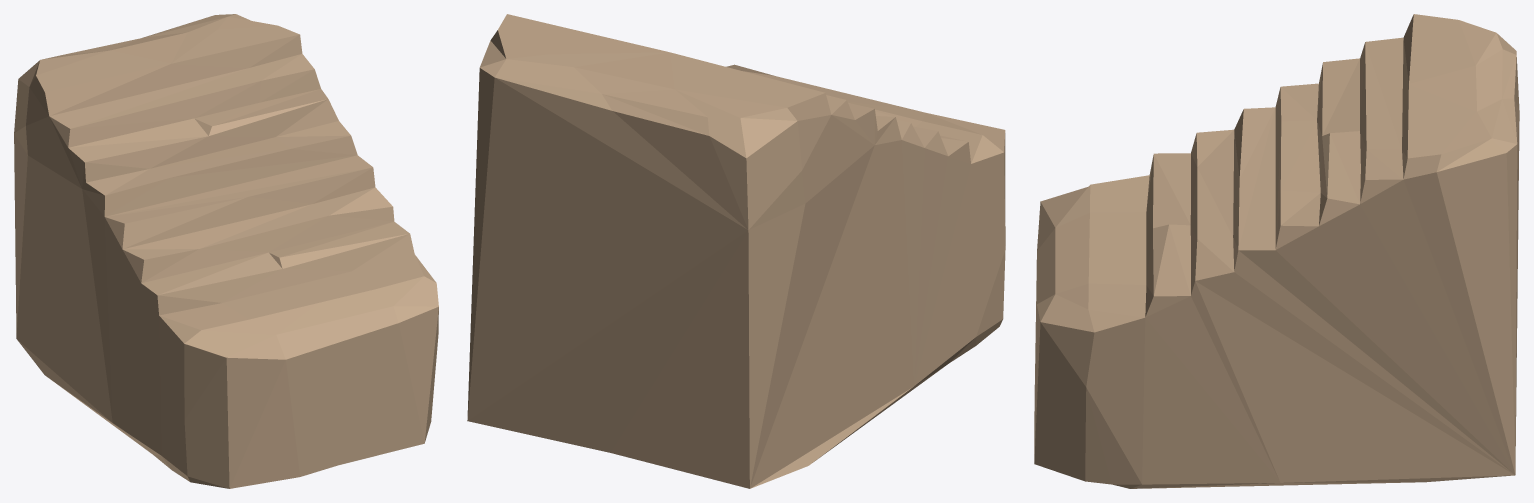
Rendered from SM_Prop_Ruins_Stairs_02.fbx.
The picture shows the model from 3 angles, left to right: view 1: azimuth 30°, elevation 25°; view 2: azimuth 150°, elevation 25°; view 3: azimuth 270°, elevation 25°; orthographic projection. The views are drawn at different scales.
Parts seen in each view (by area): view 1: SM_Prop_Ruins_Stairs_02; view 2: SM_Prop_Ruins_Stairs_02; view 3: SM_Prop_Ruins_Stairs_02.
Boxes of the visible parts, <box> form: SM_Prop_Ruins_Stairs_02: <box>14,14,438,488</box>; SM_Prop_Ruins_Stairs_02: <box>467,14,1005,488</box>; SM_Prop_Ruins_Stairs_02: <box>1034,14,1519,488</box>.
Bounding box in the file's own units: 261 × 284 × 372.
